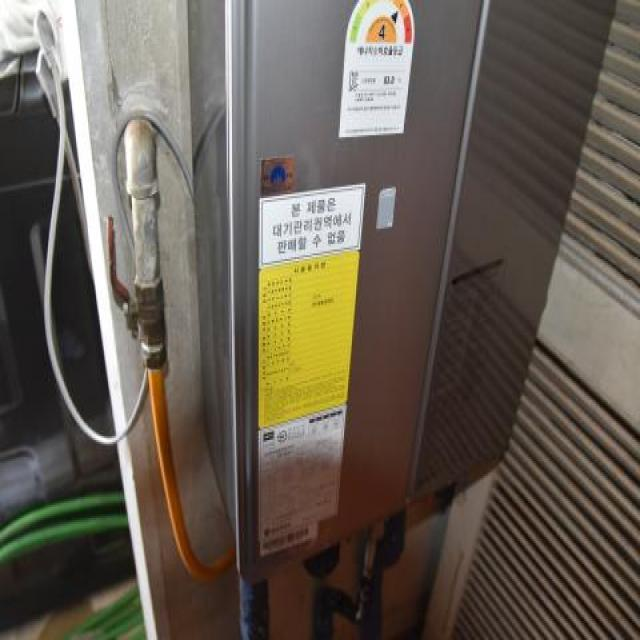Boiler: (158, 1, 626, 600)
